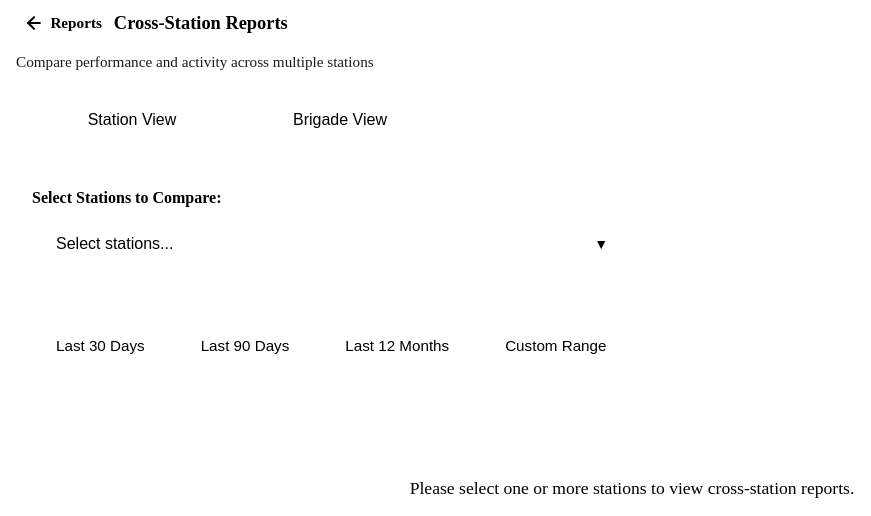
Test case: CrossStationReportsPage › renders brigade selector in brigade view
Click the button "Brigade View": (340,120) x1=240 y1=99 x2=440 y2=141
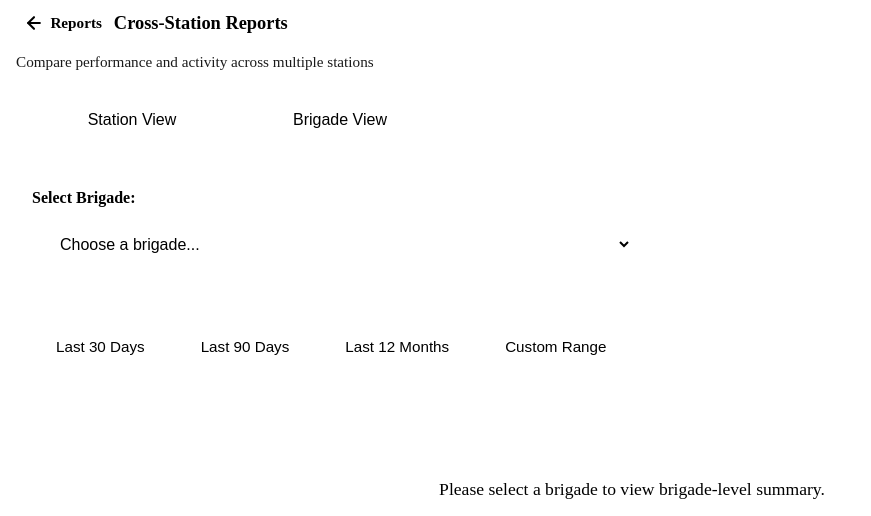
Check: the text "Select Brigade:" is shown, box x1=32 y1=189 x2=136 y2=206
